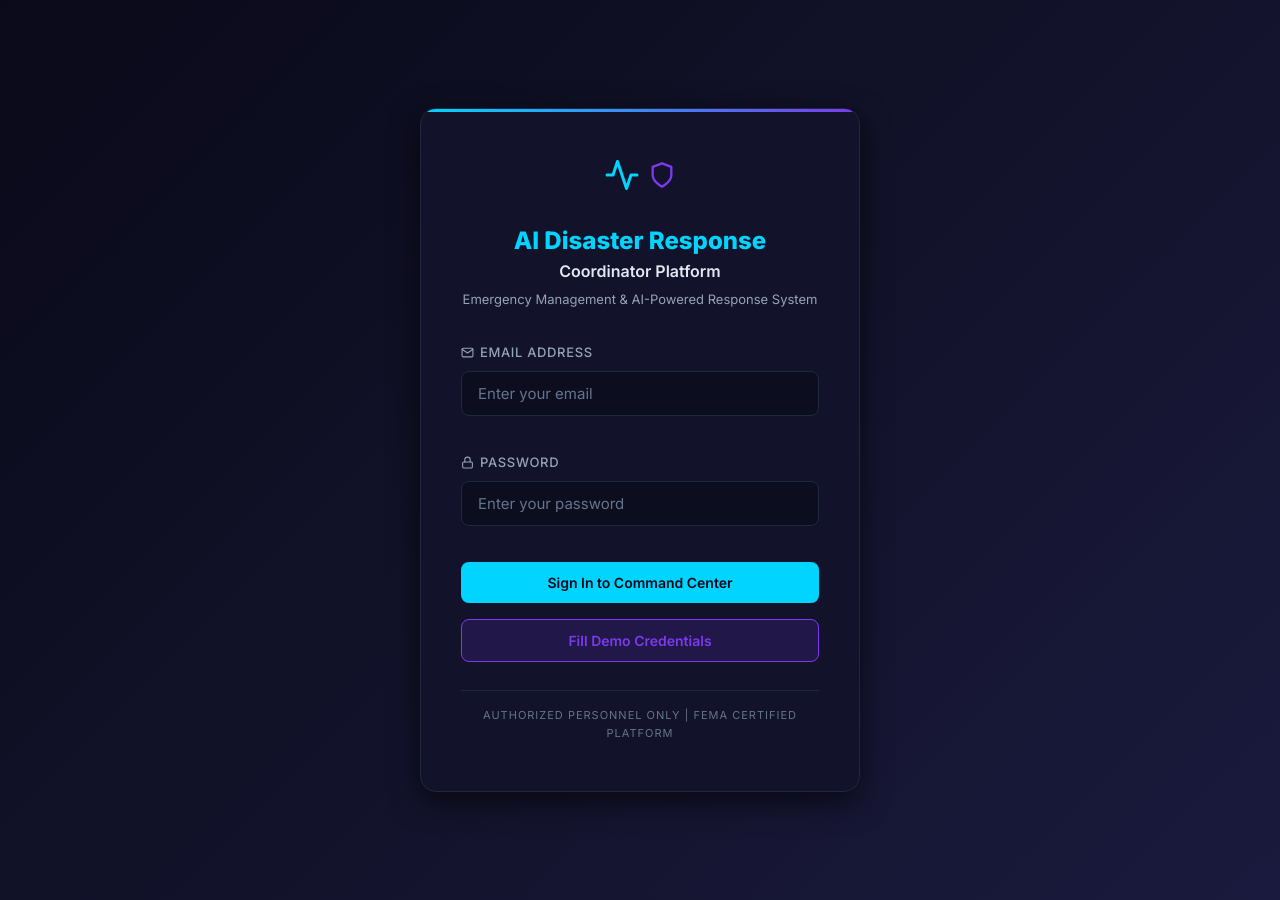
Scenario: demo button explains missing frontend credentials without submitting
This screenshot has width=1280, height=900.
Click the button "Fill Demo Credentials".
click(640, 641)  # box [461,619,819,662]
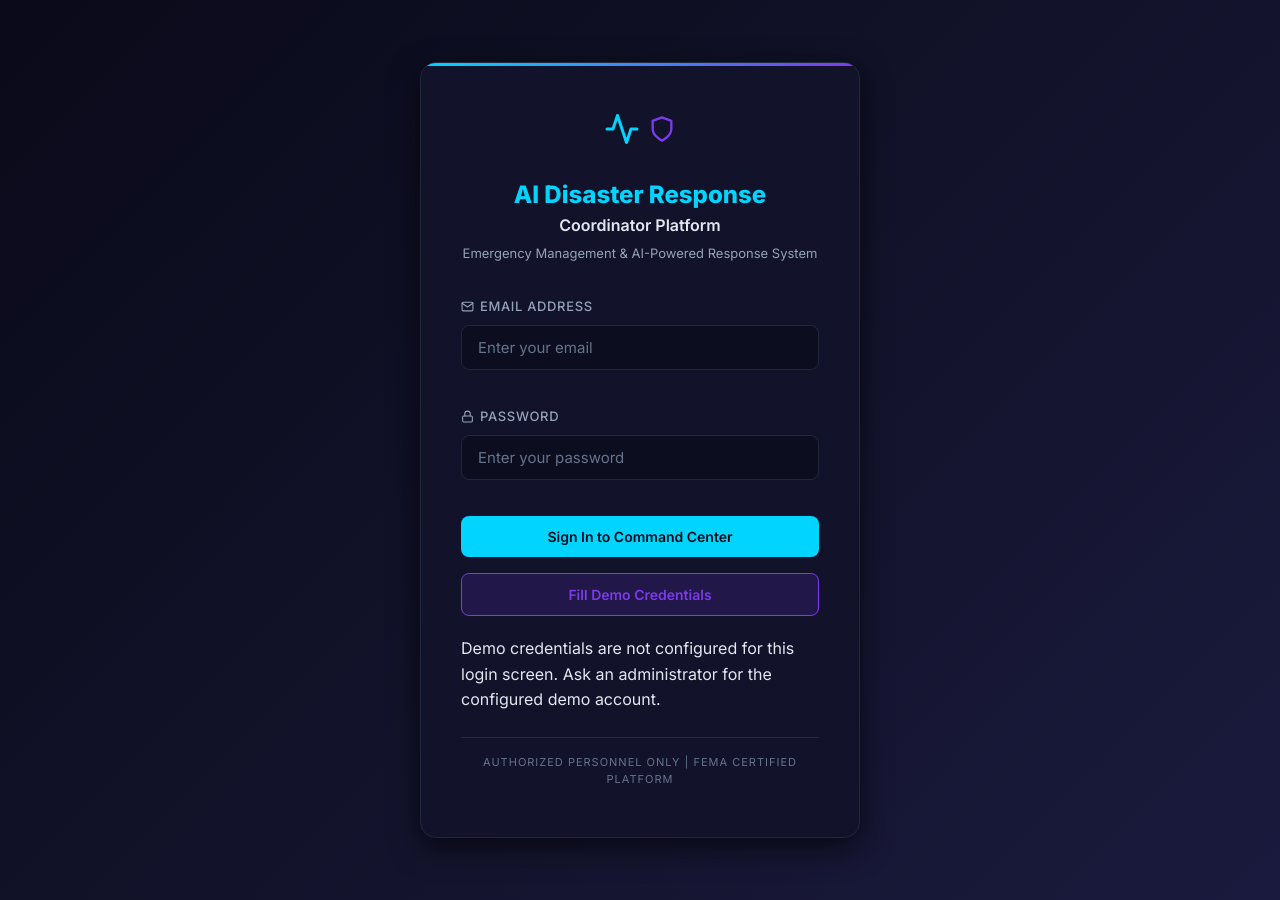
expect the message shows "not configured": met, box [461,638,794,709]
